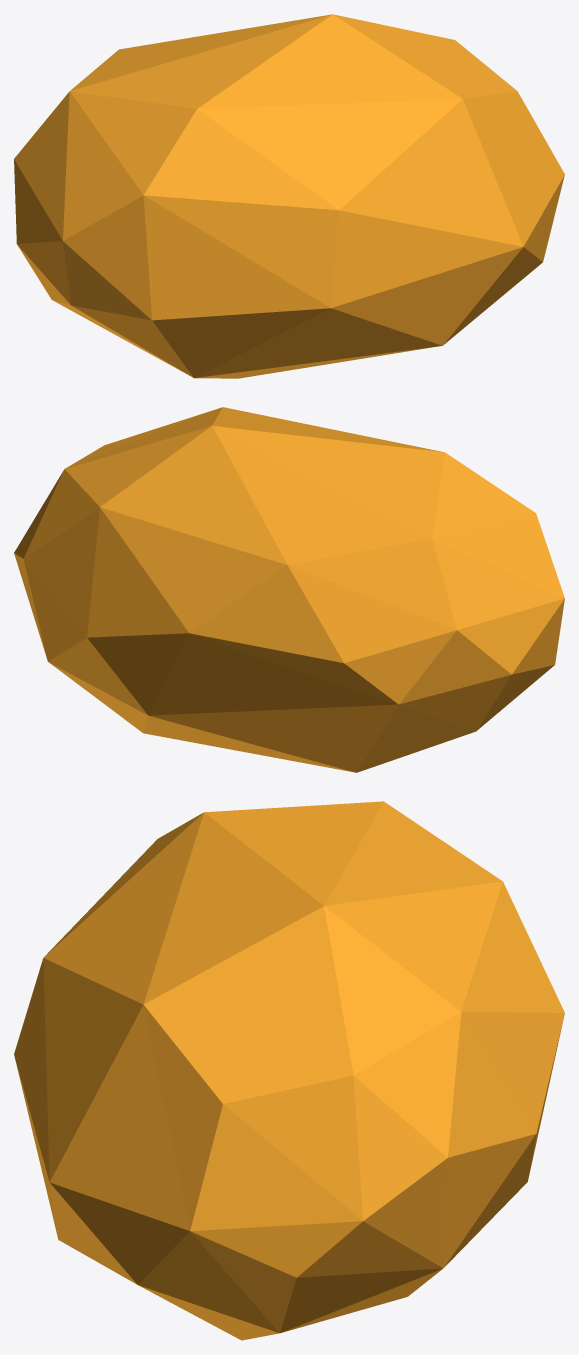
The model's file is SM_Potato_A.fbx.
3 views of the same model, one above another, from view 1: azimuth 30°, elevation 25°; view 2: azimuth 150°, elevation 25°; view 3: azimuth 270°, elevation 25° (orthographic). The views are drawn at different scales.
Parts seen in each view (by area): view 1: potato-a; view 2: potato-a; view 3: potato-a.
Part boxes in pixels (left/top/right/bottom): potato-a: left=14, top=14, right=564, bottom=378; potato-a: left=14, top=407, right=564, bottom=772; potato-a: left=14, top=801, right=564, bottom=1340.
Size of the model in its own units: 0.2268 by 0.137 by 0.1709.
